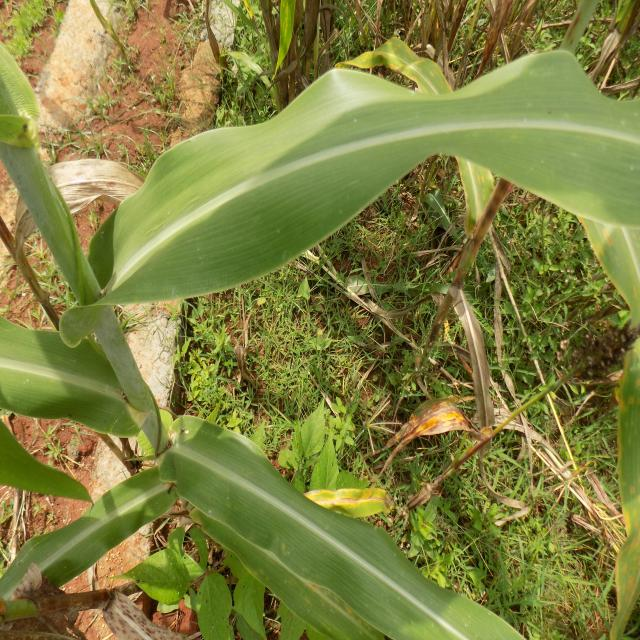millet_healthy: (81, 49, 640, 308), (158, 426, 528, 640)
